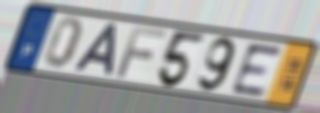0: (42, 15, 86, 72)
5: (155, 28, 209, 88)
9: (196, 36, 240, 94)
A: (70, 21, 121, 79)
E: (229, 42, 285, 98)
F: (114, 25, 170, 81)
